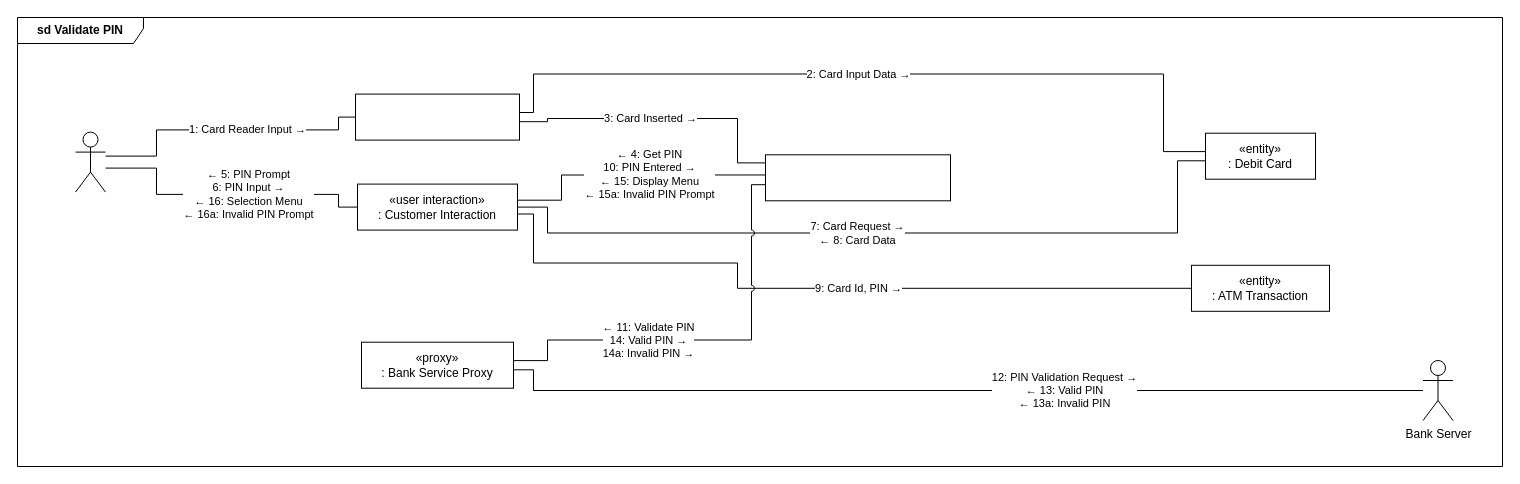
Some shapes in this 1520 by 484 pixel diagram are drawn without their labels. Each missing label, with the box of its shape:
ATM Customer: (74, 131, 106, 192)
«input» : Card Reader Interface: (354, 93, 520, 140)
«state dependent control» : ATM Control: (764, 154, 950, 201)
